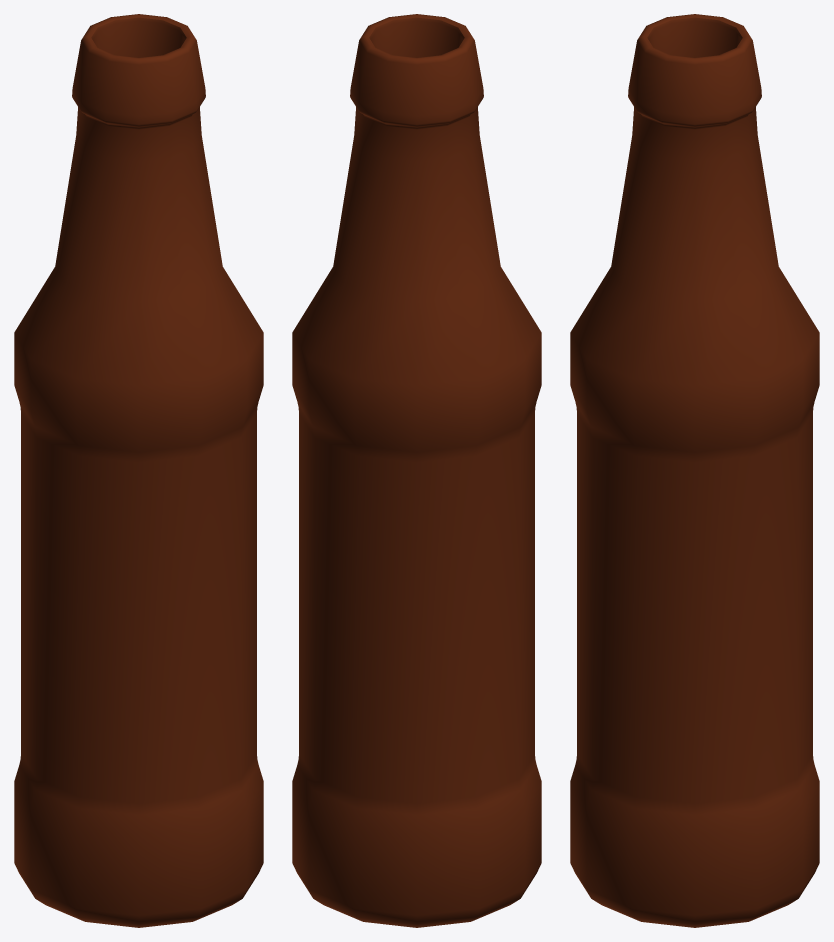
The model's file is Bottle PND.fbx.
3 views of the same model, side by side, from view 1: azimuth 30°, elevation 25°; view 2: azimuth 150°, elevation 25°; view 3: azimuth 270°, elevation 25° (orthographic).
Visible parts, largest first — view 1: GlassBottle; view 2: GlassBottle; view 3: GlassBottle.
Boxes of the visible parts, x1,y1,x2,y2 form: GlassBottle: [14, 14, 263, 927]; GlassBottle: [292, 14, 541, 927]; GlassBottle: [570, 14, 819, 927].
Bounding box in the file's own units: 6.07 × 22.7 × 6.07.
